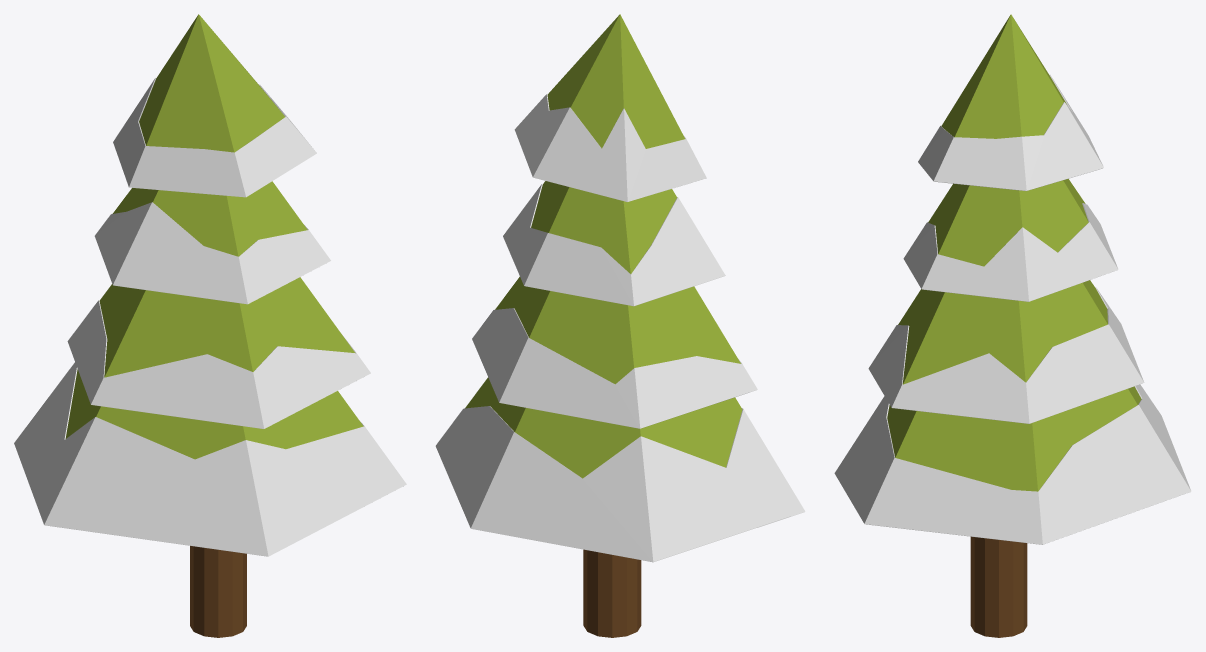
Rendered from tree_snow.fbx.
3 views of the same model, side by side, from view 1: azimuth 30°, elevation 25°; view 2: azimuth 150°, elevation 25°; view 3: azimuth 270°, elevation 25° (orthographic). The views are drawn at different scales.
Parts seen in each view (by area): view 1: Cone.001; view 2: Cone.001; view 3: Cone.001.
Boxes of the visible parts, x1,y1,x2,y2 form: Cone.001: (14,14,406,637); Cone.001: (435,14,805,637); Cone.001: (834,14,1191,637).
Size of the model in its own units: 715 by 1247 by 667.
